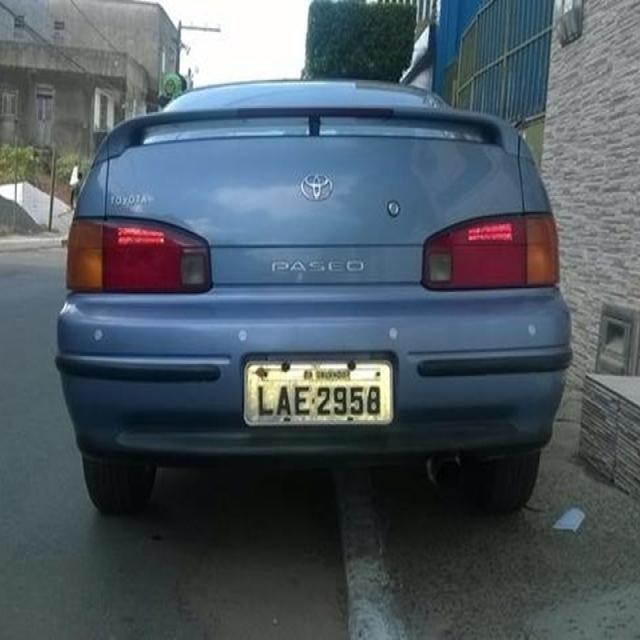Placa: (239, 356, 395, 429)
